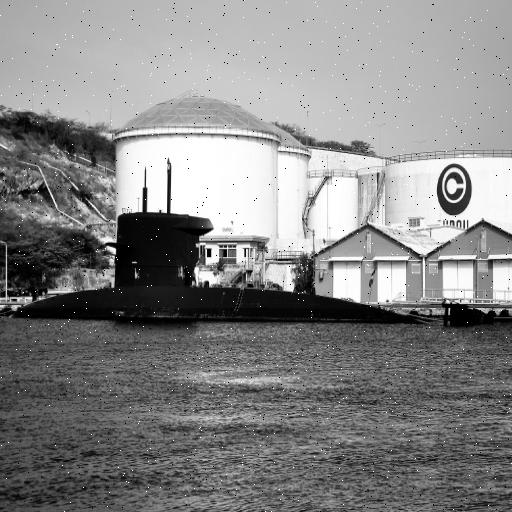submarine: (18, 151, 436, 318)
